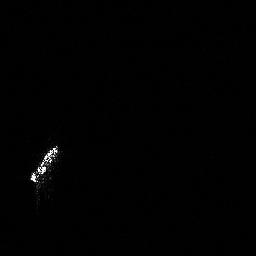ship: (26, 140, 64, 191)
